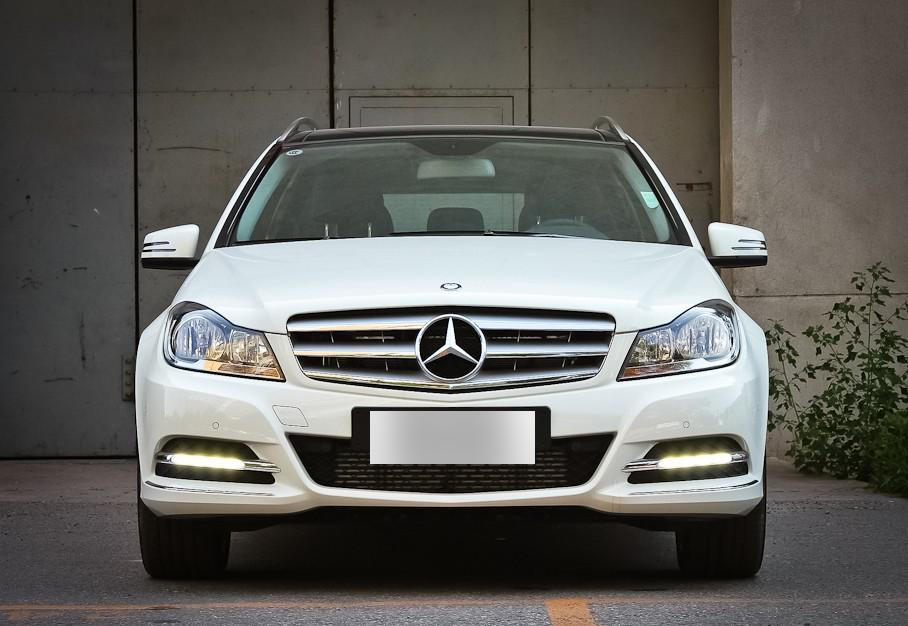Wagon: (131, 114, 771, 579)
